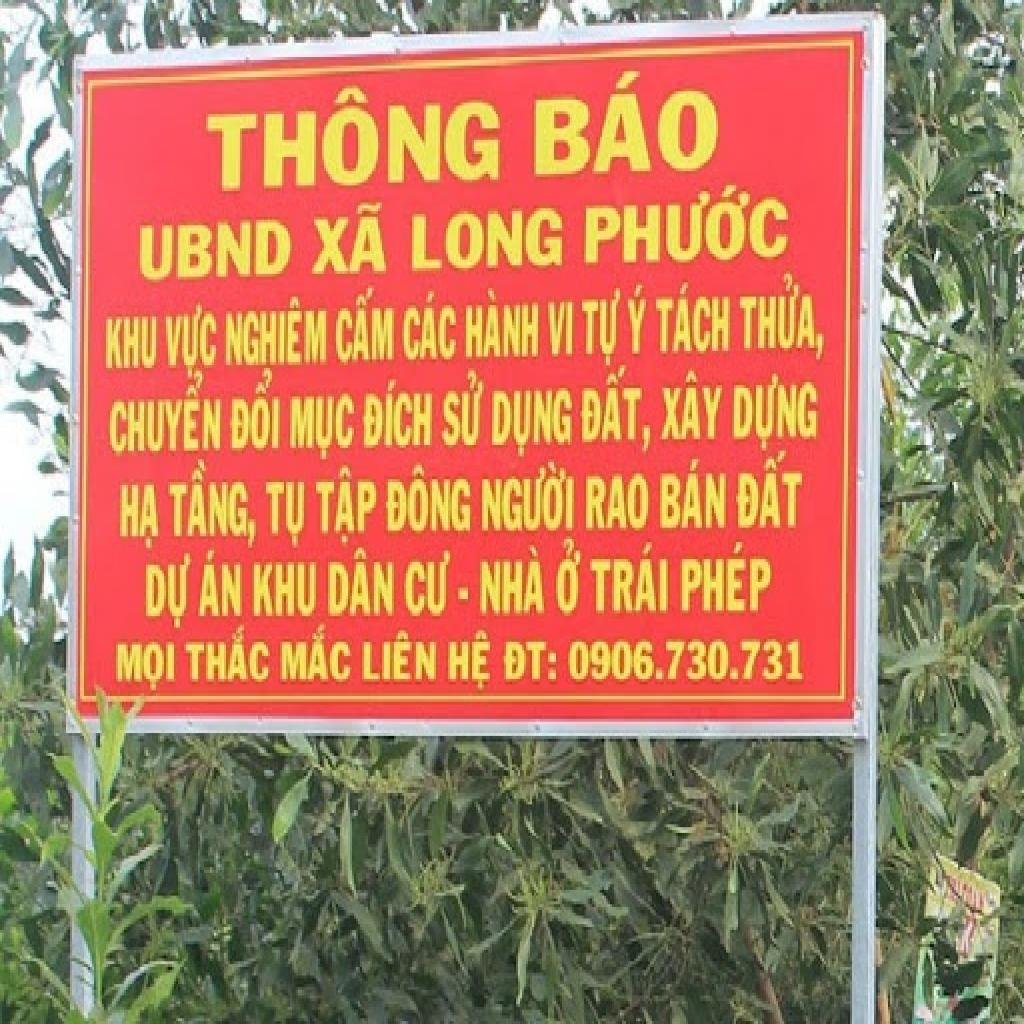text: (204, 77, 504, 197), (530, 66, 724, 182), (582, 183, 792, 271), (566, 636, 808, 687), (410, 202, 568, 276), (138, 217, 296, 288), (108, 368, 224, 459), (166, 456, 264, 554), (738, 268, 830, 365), (224, 294, 330, 371), (732, 371, 822, 456), (578, 362, 656, 459), (480, 459, 578, 536), (680, 539, 776, 616), (384, 459, 474, 539), (308, 200, 392, 280), (490, 385, 576, 462), (588, 539, 672, 616), (654, 280, 734, 360), (734, 448, 806, 533), (182, 622, 276, 687), (464, 285, 542, 362), (360, 376, 436, 454), (334, 282, 398, 371), (314, 465, 382, 548), (658, 456, 730, 534), (326, 545, 398, 622), (658, 368, 728, 445), (478, 542, 548, 619), (288, 391, 358, 465), (402, 548, 472, 622), (228, 365, 284, 456), (278, 622, 356, 687), (360, 628, 442, 688), (400, 288, 460, 368), (162, 300, 220, 382), (584, 468, 652, 536), (144, 548, 196, 633), (252, 559, 320, 622), (440, 368, 488, 453), (580, 285, 624, 371), (196, 548, 246, 622), (114, 639, 178, 693), (118, 480, 164, 554), (264, 476, 310, 550), (104, 314, 160, 374), (446, 625, 494, 693), (554, 536, 584, 619), (624, 282, 652, 360), (546, 300, 576, 362)
